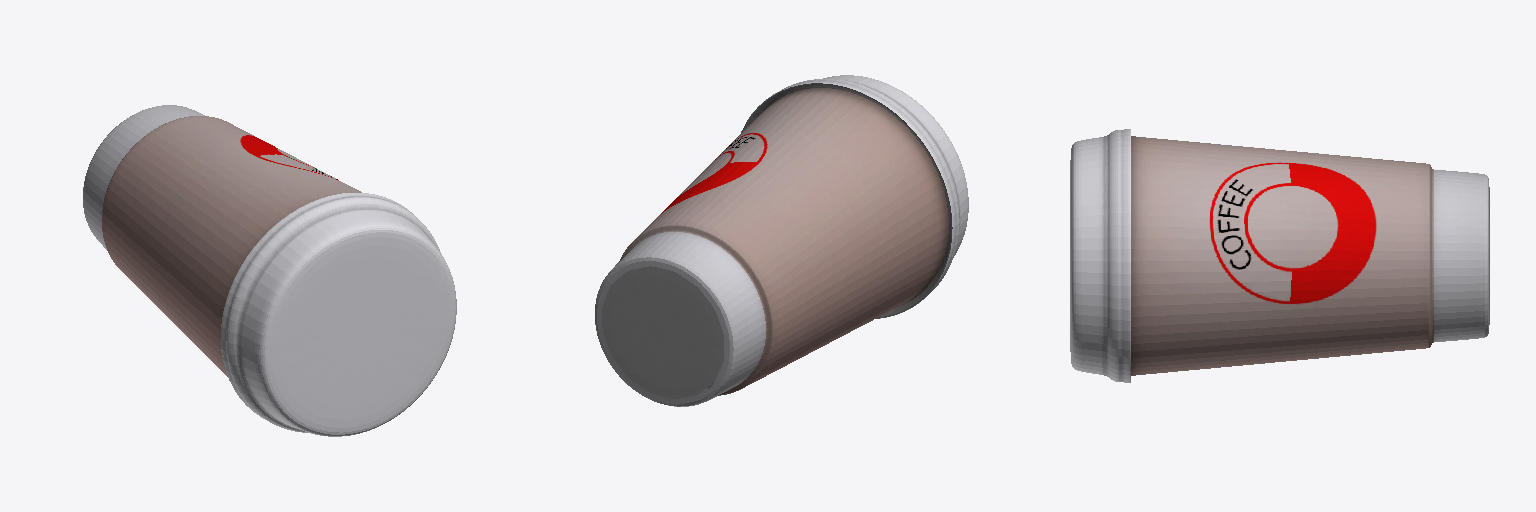
3 views of the same model, side by side, from view 1: azimuth 30°, elevation 25°; view 2: azimuth 150°, elevation 25°; view 3: azimuth 270°, elevation 25° (orthographic).
Parts seen in each view (by area): view 1: 14039_To_go_coffee_cup_with_lid_SG; view 2: 14039_To_go_coffee_cup_with_lid_SG; view 3: 14039_To_go_coffee_cup_with_lid_SG.
Part boxes in pixels (x1,y1,x2,y2): 14039_To_go_coffee_cup_with_lid_SG: (83, 105, 456, 436); 14039_To_go_coffee_cup_with_lid_SG: (595, 75, 968, 406); 14039_To_go_coffee_cup_with_lid_SG: (1070, 129, 1489, 382).
Bounding box in the file's own units: 2.99 × 2.99 × 4.92.
Materials: 1 (1 with a texture image).